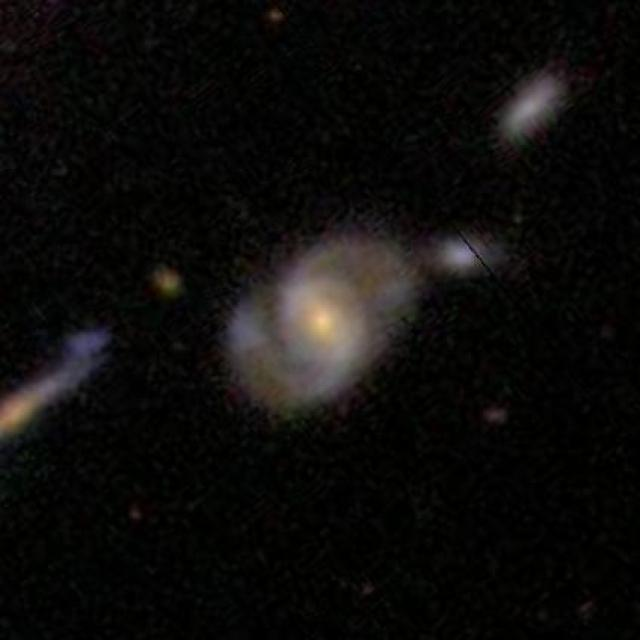galaxy: (223, 229, 426, 422), (1, 328, 114, 446), (485, 68, 572, 156), (425, 230, 520, 285), (149, 263, 188, 305), (477, 403, 514, 430), (264, 7, 291, 24), (125, 503, 143, 525)
